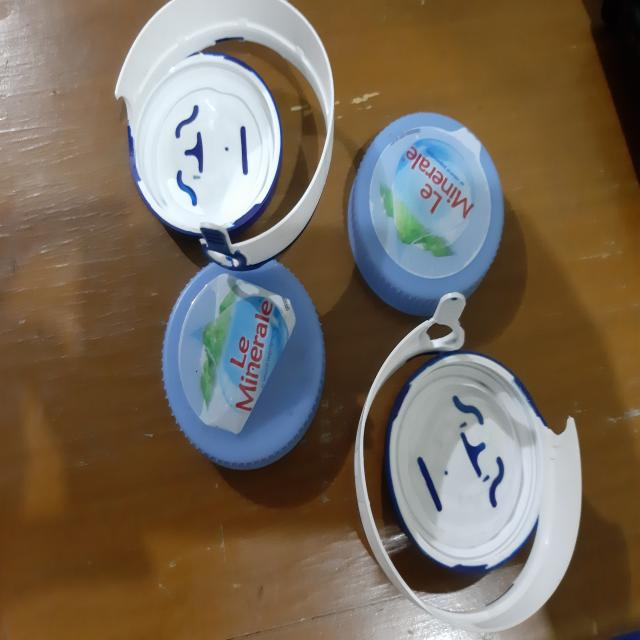TutupGalon: (353, 326, 595, 640), (107, 6, 333, 249), (147, 243, 334, 478), (344, 117, 513, 304)
